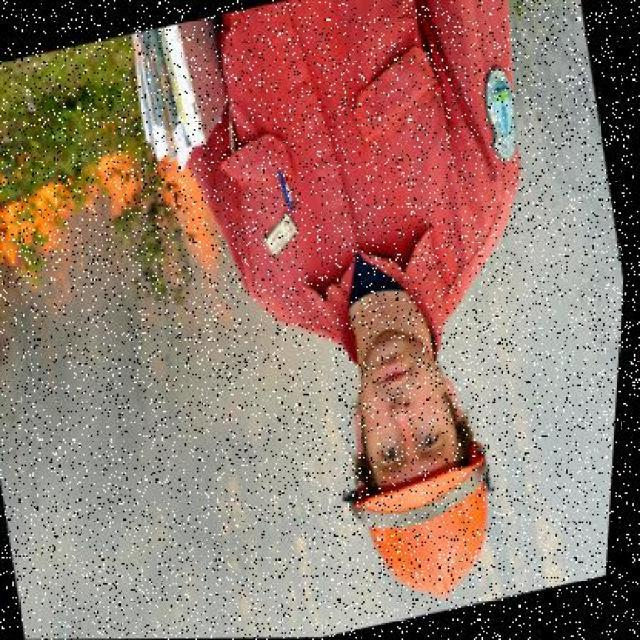helmet: (340, 449, 518, 604)
vest: (151, 0, 567, 384)
